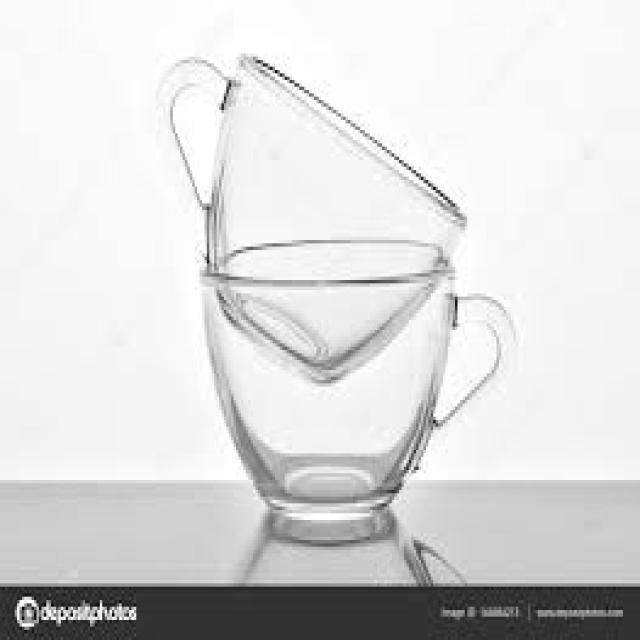glass: (156, 47, 462, 383), (200, 237, 514, 540)
